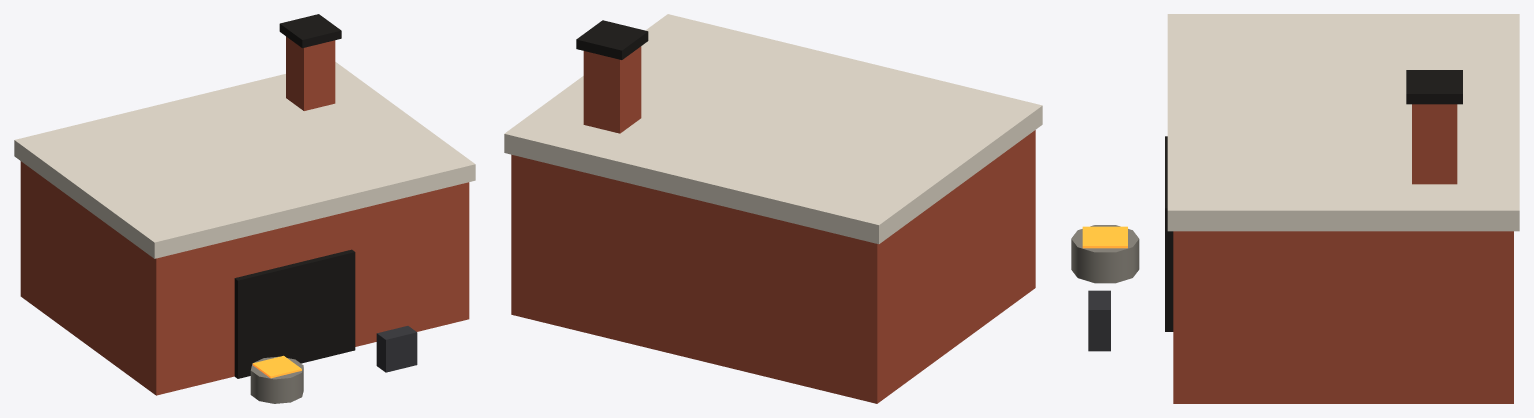
Rendered from smithy.glb.
The picture shows the model from 3 angles, left to right: view 1: azimuth 30°, elevation 25°; view 2: azimuth 150°, elevation 25°; view 3: azimuth 270°, elevation 25°; orthographic projection. The views are drawn at different scales.
Parts seen in each view (by area): view 1: Smithy; view 2: Smithy; view 3: Smithy.
Boxes of the visible parts, left/top/right/bottom form: Smithy: left=14, top=14, right=475, bottom=403; Smithy: left=504, top=14, right=1042, bottom=403; Smithy: left=1071, top=14, right=1519, bottom=403.
Size of the model in its own units: 8.2 by 5.6 by 7.9.
